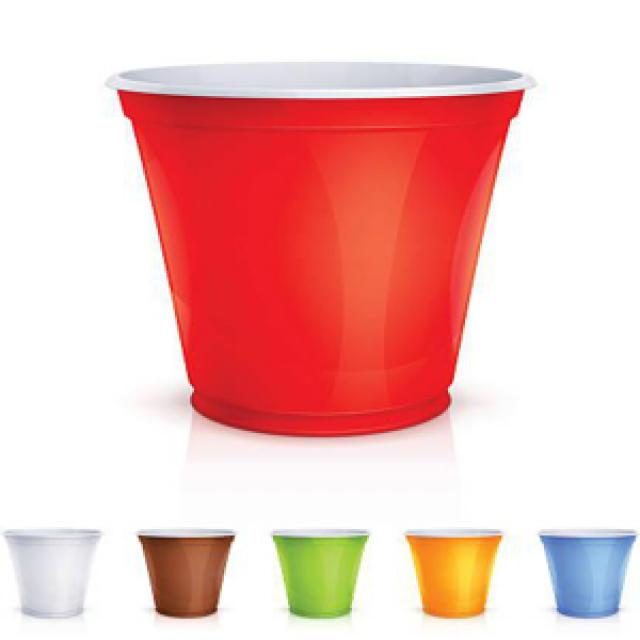plastic cup: (102, 53, 544, 446), (266, 523, 376, 623), (132, 525, 239, 621), (403, 525, 506, 623), (2, 522, 105, 620), (535, 525, 640, 621)
